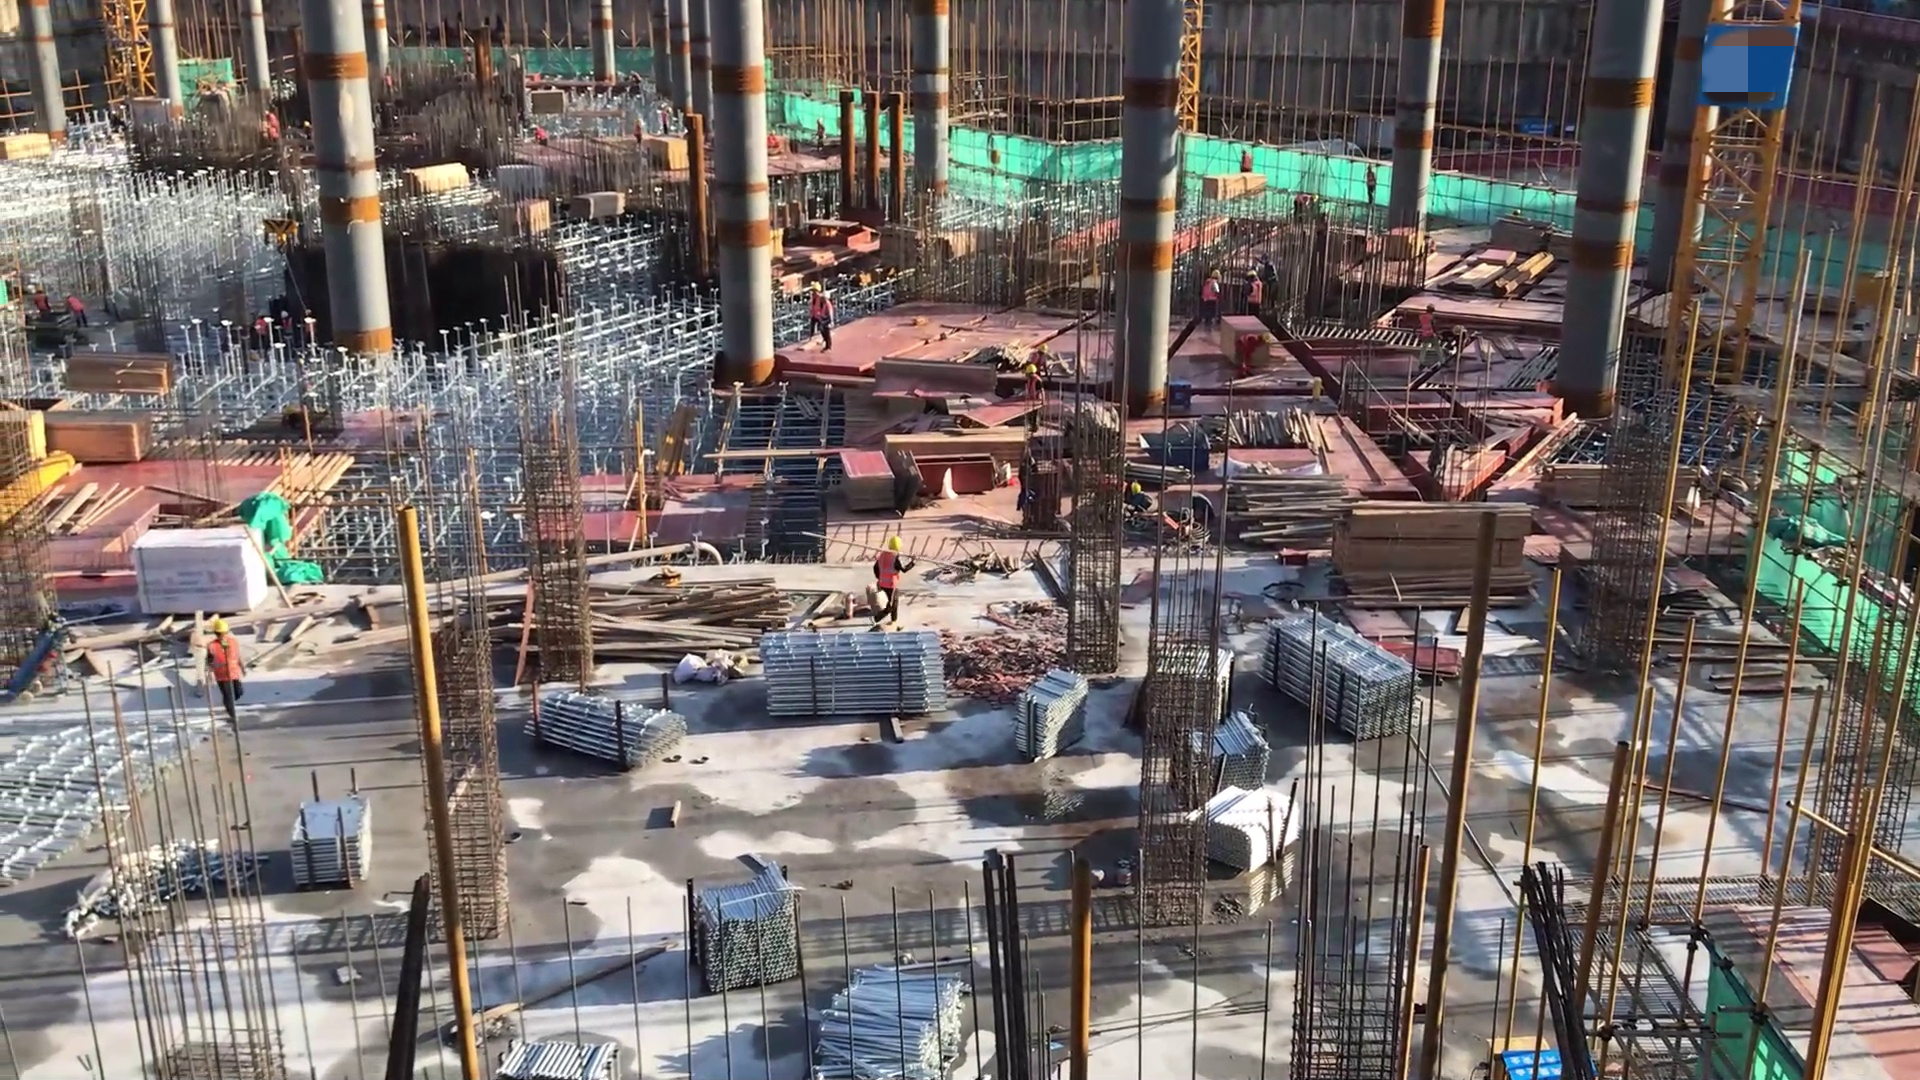helmet: (211, 619, 233, 643), (885, 536, 904, 554), (1130, 477, 1144, 499), (809, 281, 823, 295), (1453, 322, 1466, 337), (1260, 330, 1273, 347), (820, 289, 834, 302), (1210, 268, 1222, 281), (1028, 361, 1036, 379), (1037, 343, 1049, 353), (1426, 301, 1436, 310)
person: (206, 618, 251, 724), (872, 531, 917, 635), (1419, 298, 1446, 373), (1198, 264, 1226, 332), (1231, 330, 1273, 376), (1261, 251, 1283, 314), (1024, 361, 1043, 435), (819, 288, 836, 359), (808, 276, 826, 347), (1027, 340, 1051, 390), (61, 288, 90, 329), (1288, 191, 1320, 227), (1244, 265, 1261, 324), (1362, 159, 1381, 212), (528, 121, 555, 151), (278, 309, 298, 351), (1236, 143, 1258, 178), (34, 287, 53, 323), (813, 113, 830, 153), (766, 125, 783, 158), (264, 104, 278, 142), (658, 100, 670, 140), (633, 113, 645, 147)
vest: (208, 638, 247, 688), (874, 554, 909, 596), (1418, 312, 1439, 348), (1201, 277, 1222, 304), (1245, 280, 1264, 308), (819, 299, 836, 329), (1264, 260, 1281, 286), (35, 293, 50, 315)
